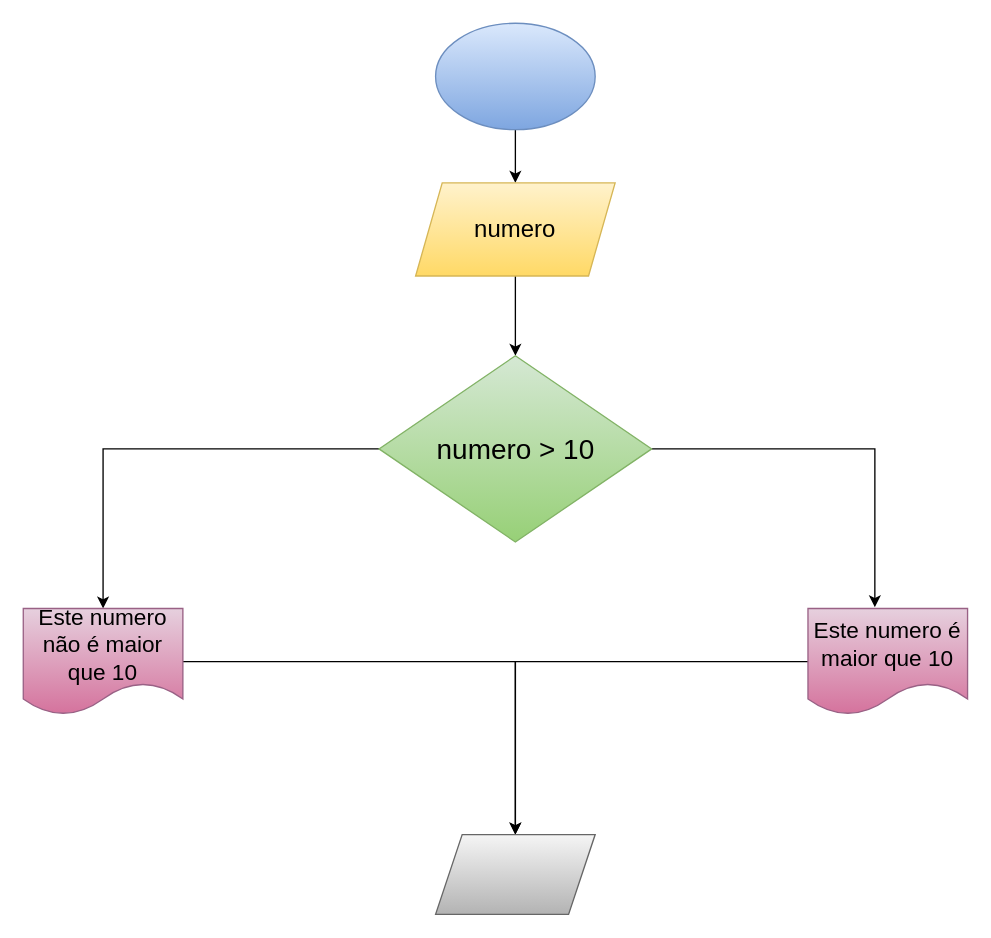
Some shapes in this 991 by 938 pixel diagram are drawn without their labels. Each missing label, with the centre of its shape:
"fim" belongs at point (514, 873).
"inicio" belongs at point (514, 76).
